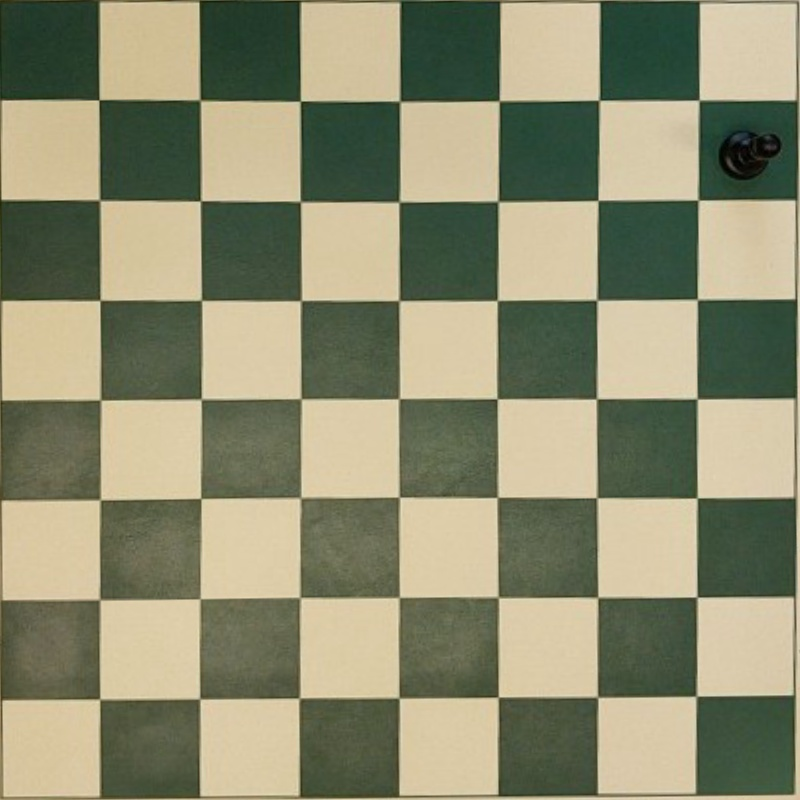black-pawn: (721, 130, 783, 178)
